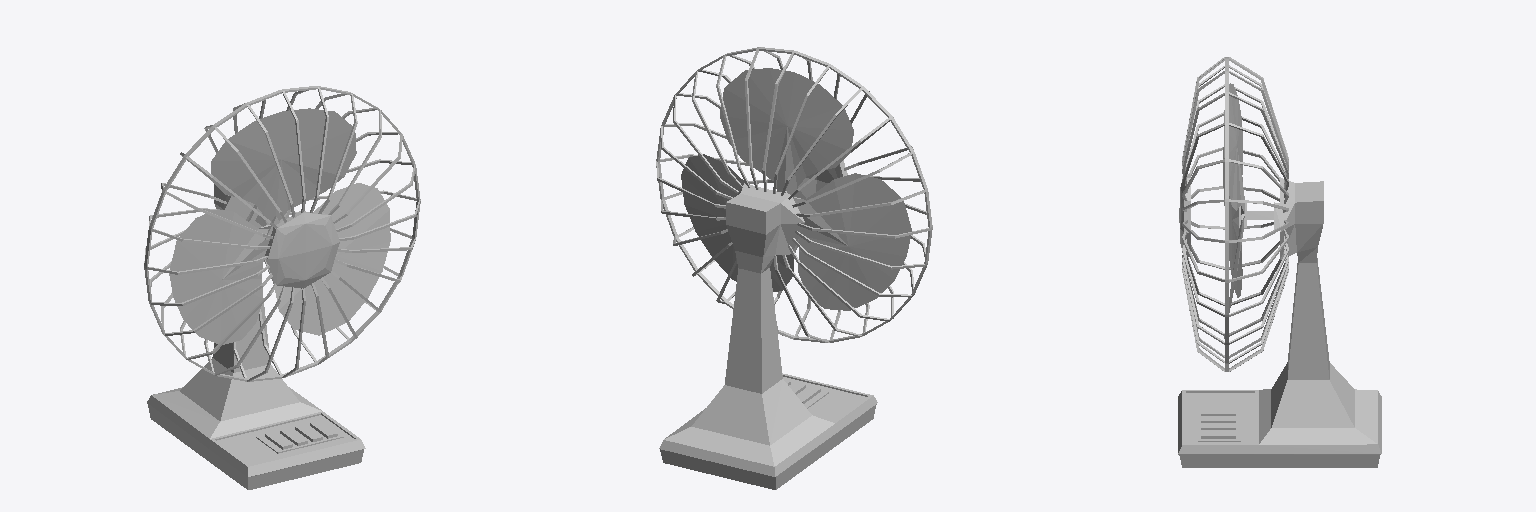
File: EverythingLibrary_Furnishings_Fan.obj
3 views of the same model, side by side, from view 1: azimuth 30°, elevation 25°; view 2: azimuth 150°, elevation 25°; view 3: azimuth 270°, elevation 25° (orthographic).
Visible parts, largest first — view 1: base.008_Mesh.1257, anim_0_0_200_Mesh.1258; view 2: base.008_Mesh.1257, anim_0_0_200_Mesh.1258; view 3: base.008_Mesh.1257, anim_0_0_200_Mesh.1258.
Boxes of the visible parts, box(x1,y1,x2,y2) form: base.008_Mesh.1257: box(144, 86, 420, 489); anim_0_0_200_Mesh.1258: box(169, 108, 390, 344); base.008_Mesh.1257: box(656, 47, 932, 489); anim_0_0_200_Mesh.1258: box(681, 68, 911, 310); base.008_Mesh.1257: box(1178, 57, 1381, 467); anim_0_0_200_Mesh.1258: box(1223, 83, 1244, 338).
Bounding box in the file's own units: 0.3944 × 0.5084 × 0.254.